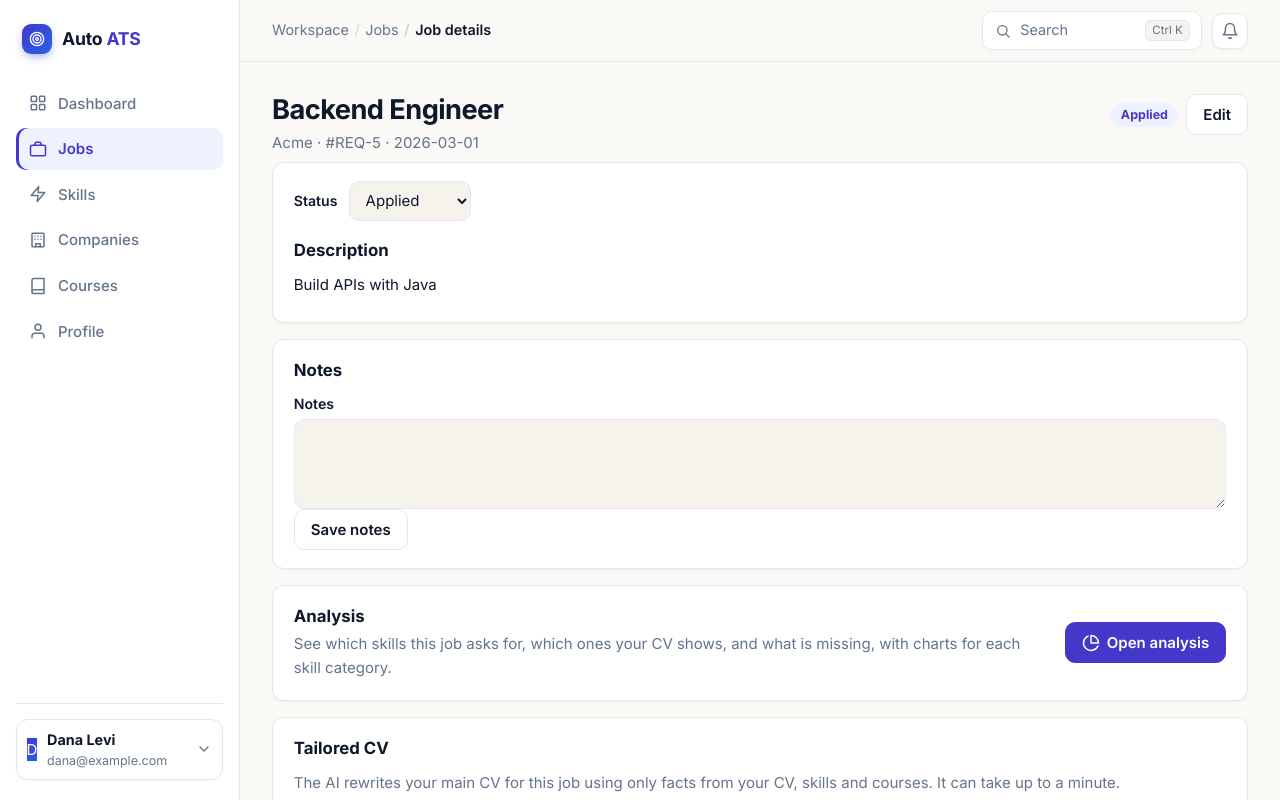
JobDetailPage analysis link › GivenAnalysisCard_WhenClickingOpenAnalysis_ThenAnalysisPageOpens
The width and height of the screenshot is (1280, 800).
Click the link "Open analysis".
click(1145, 643)  # box [1065,622,1226,663]
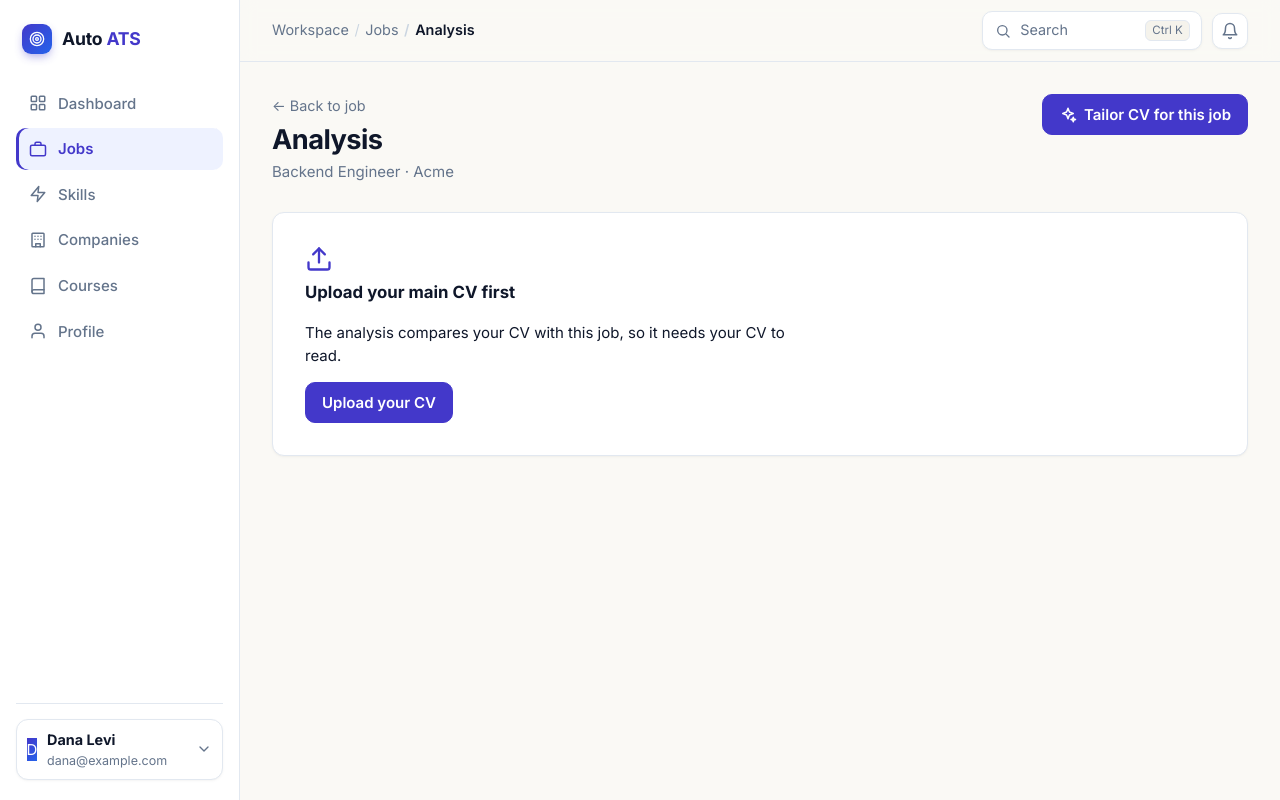
Result: the heading "Analysis" is shown at [272,123,382,156]
